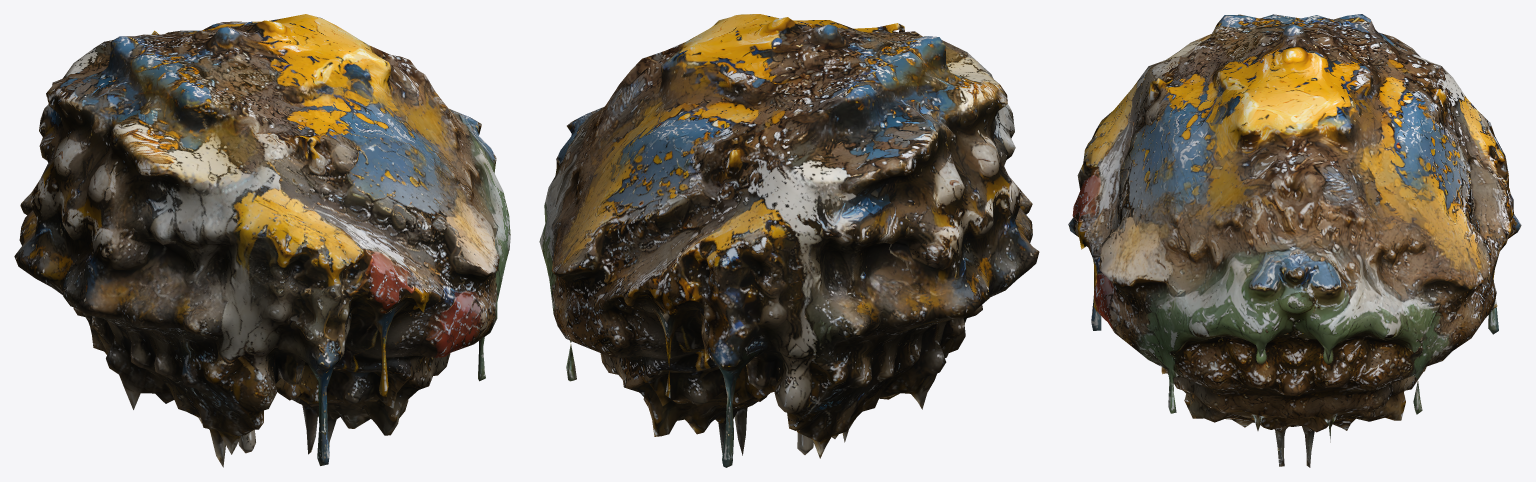
File: sample_paint.fbx
3 renders of one model, left to right at view 1: azimuth 30°, elevation 25°; view 2: azimuth 150°, elevation 25°; view 3: azimuth 270°, elevation 25°, orthographic. The views are drawn at different scales.
Visible parts, largest first — view 1: input; view 2: input; view 3: input.
Boxes of the visible parts, x1,y1,x2,y2 form: input: (14,14,510,467); input: (539,14,1039,467); input: (1068,14,1521,467).
Size of the model in its own units: 97.1 by 97.44 by 99.55.
Materials: 1 (1 with a texture image).
